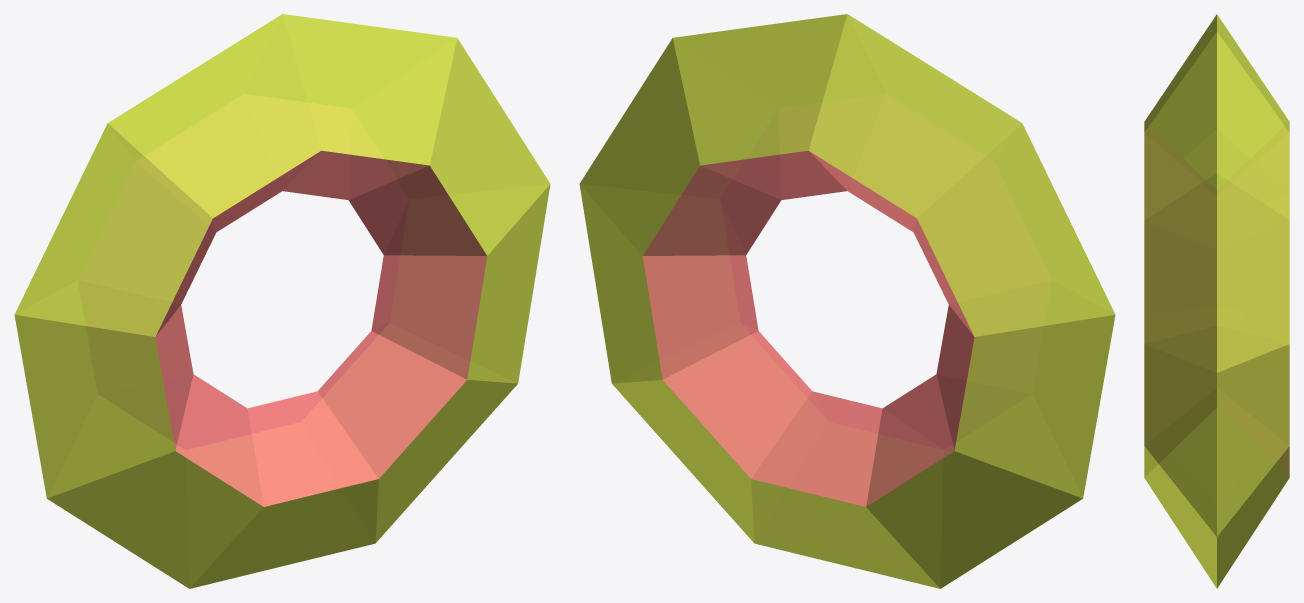
Rendered from Regular9TetragonalToroid.obj.
3 renders of one model, left to right at view 1: azimuth 30°, elevation 25°; view 2: azimuth 150°, elevation 25°; view 3: azimuth 270°, elevation 25°, orthographic. The views are drawn at different scales.
Size of the model in its own units: 2.78 by 2.74 by 0.7.
